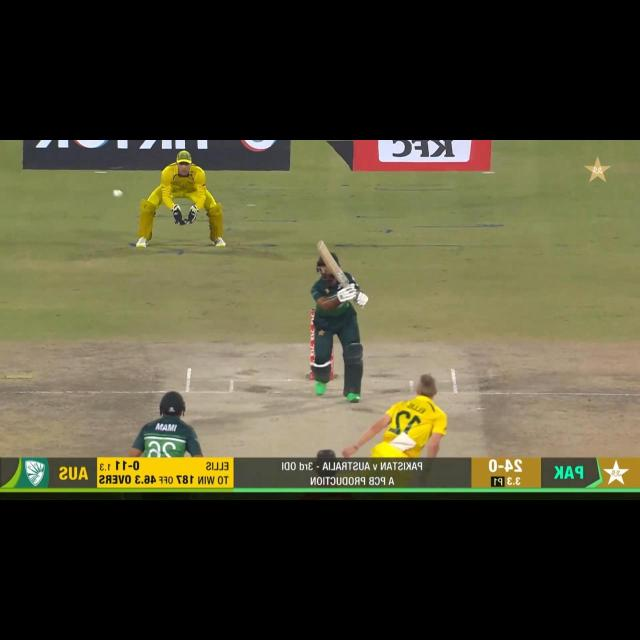bat: (316, 242, 352, 287)
toe: (315, 240, 328, 251)
